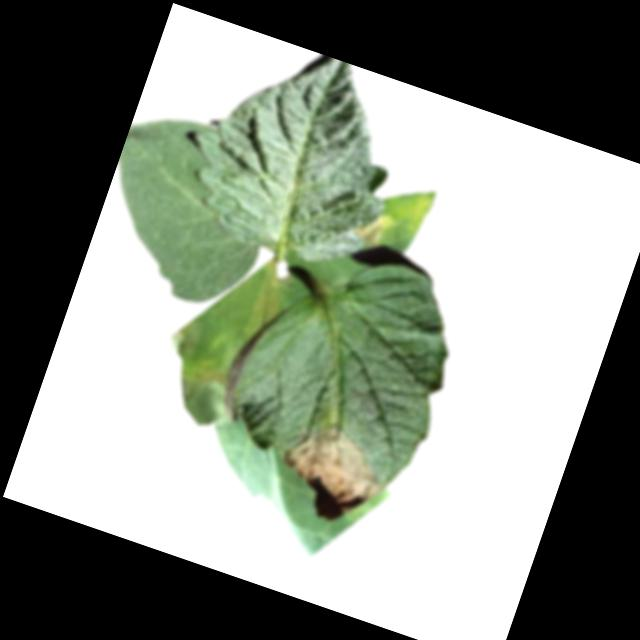Late_blight: (265, 410, 399, 536), (169, 335, 252, 434), (163, 315, 205, 365), (350, 207, 393, 249)
healthy: (167, 23, 424, 277), (82, 100, 294, 320)
